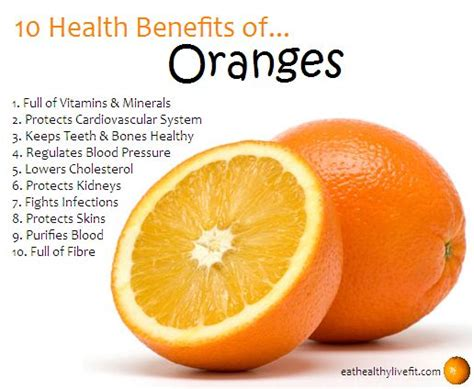orange: (269, 115, 467, 348)
